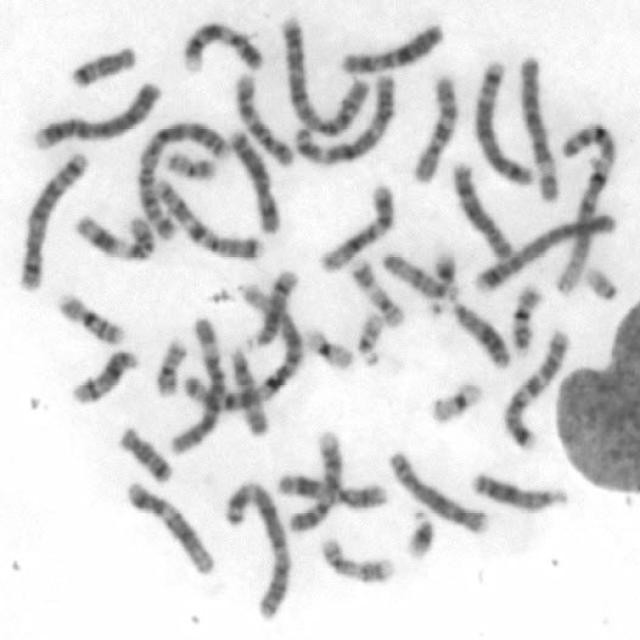A1: (180, 283, 308, 415), (552, 115, 618, 295)
A2: (131, 114, 229, 240), (276, 10, 368, 138)
A3: (220, 476, 293, 620), (291, 70, 398, 165)
B4: (470, 210, 617, 294), (28, 75, 163, 150)
B5: (13, 146, 89, 294), (468, 53, 536, 186)
C10: (231, 68, 298, 170), (408, 67, 461, 184)
C11: (275, 468, 389, 511), (69, 208, 156, 263)
C12: (120, 474, 217, 576), (314, 180, 399, 274)
C6: (166, 313, 227, 456), (512, 50, 564, 203)
C7: (151, 170, 266, 264), (499, 323, 572, 451)
C8: (383, 444, 492, 536), (448, 156, 517, 264)
C9: (284, 427, 346, 534), (176, 17, 266, 74)
D13: (444, 295, 511, 368), (466, 467, 569, 513)
D14: (66, 343, 142, 406), (246, 265, 299, 349)
D15: (377, 248, 459, 303), (225, 343, 271, 438)
E16: (51, 287, 127, 347), (505, 277, 544, 354)
E17: (346, 254, 406, 328), (316, 532, 398, 584)
E18: (63, 38, 139, 89), (116, 420, 175, 485)
F19: (423, 375, 487, 425), (300, 321, 356, 371)
F20: (151, 334, 188, 396), (163, 147, 218, 181)
G21: (400, 502, 438, 561), (429, 248, 460, 305)
G22: (352, 307, 386, 368), (582, 264, 620, 302)
X: (224, 125, 282, 238), (335, 18, 445, 75)
